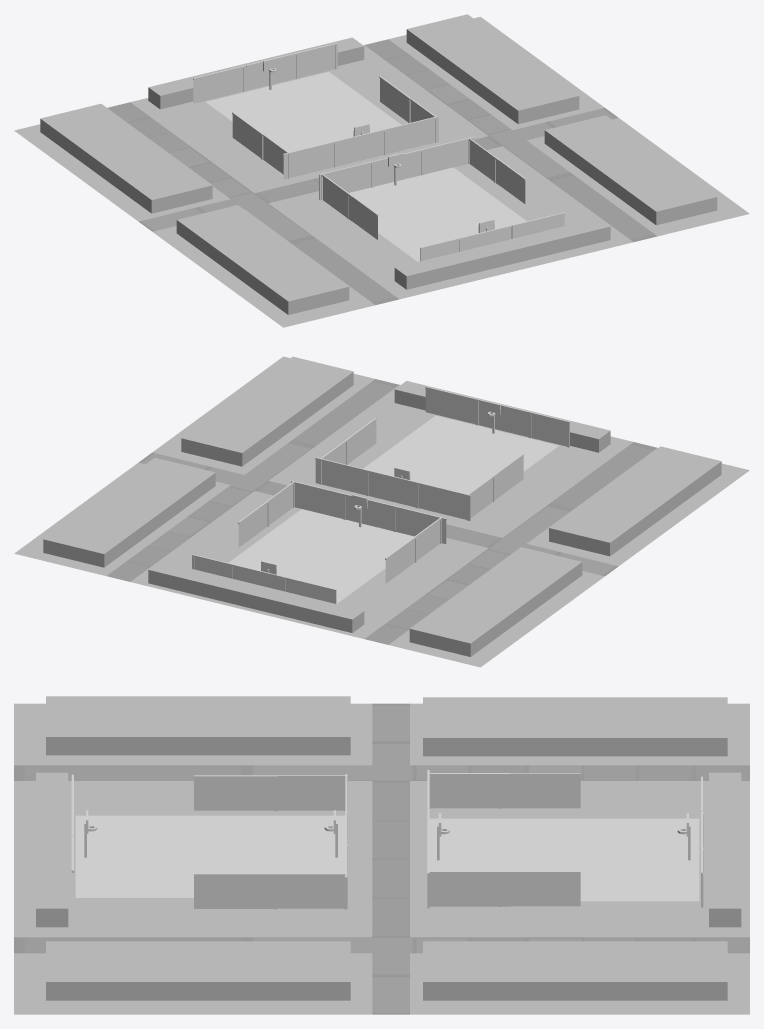
File: tile_poi_park_6x6_b_3.fbx
3 renders of one model, top to bottom at view 1: azimuth 30°, elevation 25°; view 2: azimuth 150°, elevation 25°; view 3: azimuth 270°, elevation 25°, orthographic. The views are drawn at different scales.
Parts seen in each view (by area): view 1: tile_park_6x6_b_3; view 2: tile_park_6x6_b_3; view 3: tile_park_6x6_b_3.
Boxes of the visible parts, bbox=[...] form: tile_park_6x6_b_3: bbox=[14, 14, 749, 327]; tile_park_6x6_b_3: bbox=[14, 356, 749, 667]; tile_park_6x6_b_3: bbox=[14, 696, 749, 1014].
Size of the model in its own units: 9600 by 604 by 9600.
